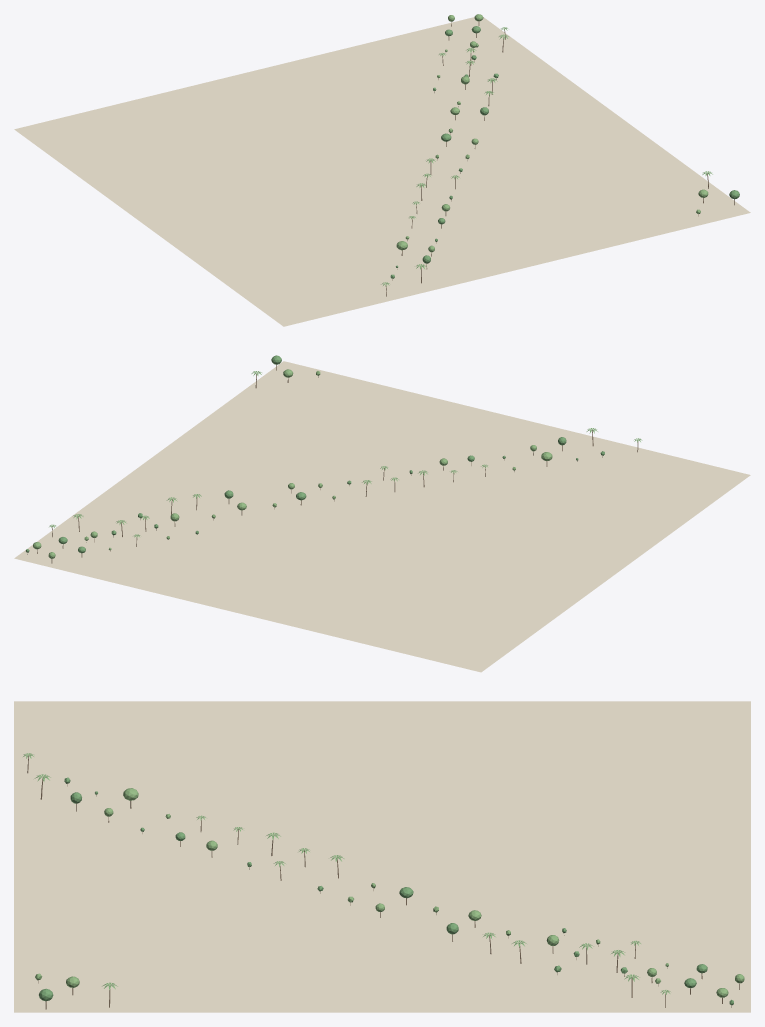
File: nature_-6_0.glb
3 views of the same model, one above another, from view 1: azimuth 30°, elevation 25°; view 2: azimuth 150°, elevation 25°; view 3: azimuth 270°, elevation 25° (orthographic). The views are drawn at different scales.
Visible parts, largest first — view 1: ground, foliage_b, foliage_a; view 2: ground, foliage_b, foliage_a; view 3: ground, foliage_b, foliage_a, palm_leaf, trunk.
Part boxes in pixels (bbox=[...]): ground: bbox=[14, 17, 750, 326]; foliage_b: bbox=[396, 14, 708, 252]; foliage_a: bbox=[390, 26, 739, 278]; ground: bbox=[14, 361, 750, 672]; foliage_b: bbox=[33, 369, 552, 558]; foliage_a: bbox=[26, 355, 604, 553]; ground: bbox=[14, 701, 750, 1012]; foliage_b: bbox=[35, 788, 744, 997]; foliage_a: bbox=[39, 777, 733, 1005]; palm_leaf: bbox=[23, 753, 670, 994]; trunk: bbox=[27, 755, 739, 1009].
Size of the model in its own units: 250 by 8.87 by 250.
